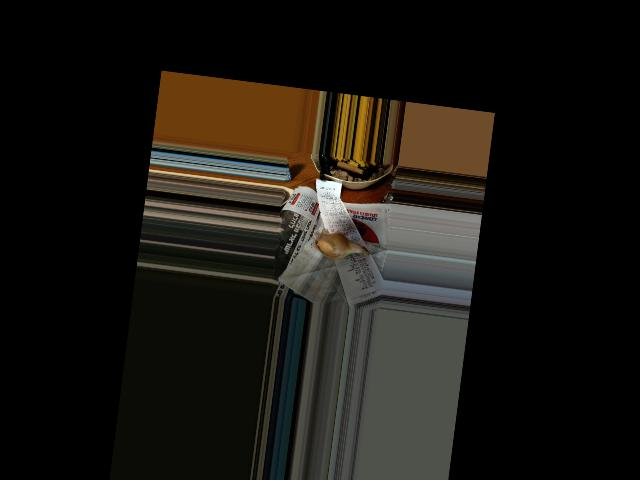onion: (310, 232, 355, 260)
